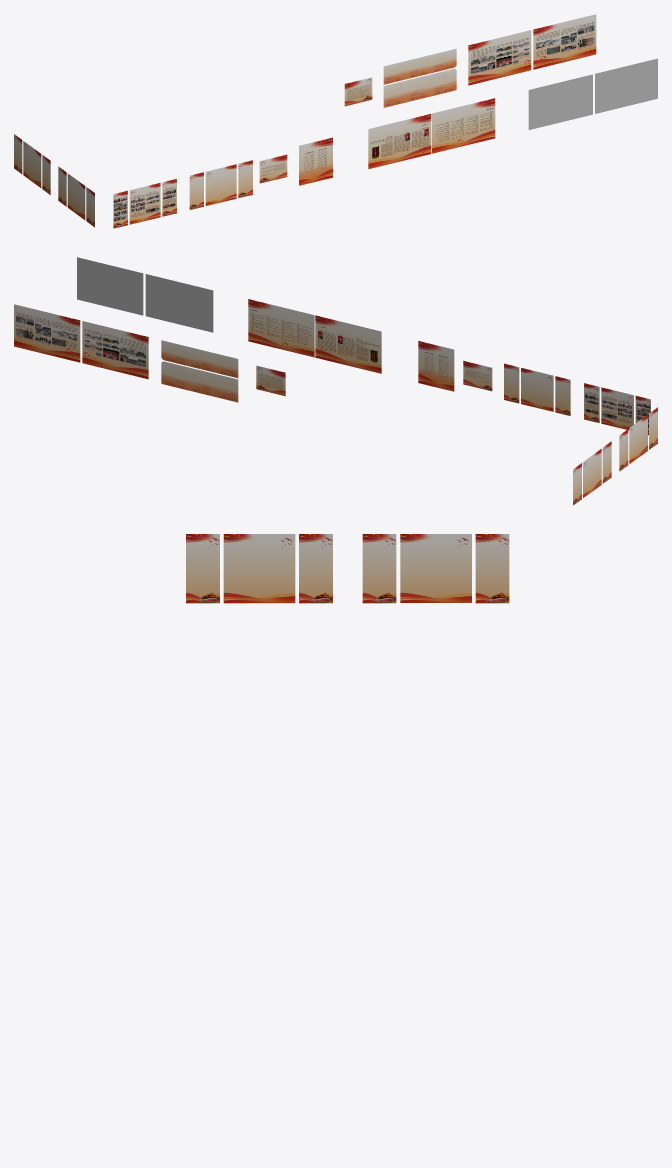
3 views of the same model, one above another, from view 1: azimuth 30°, elevation 25°; view 2: azimuth 150°, elevation 25°; view 3: azimuth 270°, elevation 25° (orthographic). The views are drawn at different scales.
Parts seen in each view (by area): view 1: 1中队_发展历程04, 1中队_历史荣誉01, 1中队_发展历程01, 1中队_发展历程02, 1中队_历史荣誉02, 1中队_发展历程03, 1中队_历史沿革下, 1中队_历史沿革上, 1中队_历任主官, 1中队_建设成就中, 1中队_重大任务中, 1中队_军营文化中 (+7 smaller); view 2: 1中队_发展历程04, 1中队_历史荣誉01, 1中队_发展历程01, 1中队_历史荣誉02, 1中队_发展历程02, 1中队_发展历程03, 1中队_历史沿革下, 1中队_历任主官, 1中队_历史沿革上, 1中队_重大任务中, 1中队_建设成就中, 1中队_前沿 (+6 smaller); view 3: 1中队_军营文化中, 1中队_官兵风采中, 1中队_官兵风采右, 1中队_官兵风采左, 1中队_军营文化右, 1中队_军营文化左.
Boxes of the visible parts, bbox=[...] form: 1中队_发展历程04: bbox=[528, 74, 592, 129]; 1中队_历史荣誉01: bbox=[432, 98, 495, 153]; 1中队_发展历程01: bbox=[468, 30, 531, 85]; 1中队_发展历程02: bbox=[533, 14, 596, 69]; 1中队_历史荣誉02: bbox=[368, 114, 431, 169]; 1中队_发展历程03: bbox=[595, 58, 657, 113]; 1中队_历史沿革下: bbox=[383, 69, 456, 107]; 1中队_历史沿革上: bbox=[383, 48, 456, 84]; 1中队_历任主官: bbox=[299, 137, 332, 185]; 1中队_建设成就中: bbox=[129, 183, 160, 224]; 1中队_重大任务中: bbox=[205, 164, 236, 205]; 1中队_军营文化中: bbox=[67, 173, 85, 219]; 1中队_发展历程04: bbox=[145, 274, 213, 332]; 1中队_历史荣誉01: bbox=[248, 299, 314, 357]; 1中队_发展历程01: bbox=[82, 321, 148, 379]; 1中队_历史荣誉02: bbox=[315, 315, 381, 373]; 1中队_发展历程02: bbox=[14, 304, 80, 362]; 1中队_发展历程03: bbox=[77, 257, 143, 315]; 1中队_历史沿革下: bbox=[161, 361, 238, 402]; 1中队_历任主官: bbox=[418, 341, 454, 391]; 1中队_历史沿革上: bbox=[161, 340, 238, 378]; 1中队_重大任务中: bbox=[521, 368, 553, 411]; 1中队_建设成就中: bbox=[601, 387, 633, 430]; 1中队_前沿: bbox=[256, 365, 285, 396]; 1中队_军营文化中: bbox=[223, 534, 295, 603]; 1中队_官兵风采中: bbox=[400, 534, 471, 602]; 1中队_官兵风采右: bbox=[475, 534, 509, 603]; 1中队_官兵风采左: bbox=[362, 534, 396, 603]; 1中队_军营文化右: bbox=[299, 534, 332, 603]; 1中队_军营文化左: bbox=[186, 534, 219, 603].
Bounding box in the file's own units: 2790 × 200 × 751.
